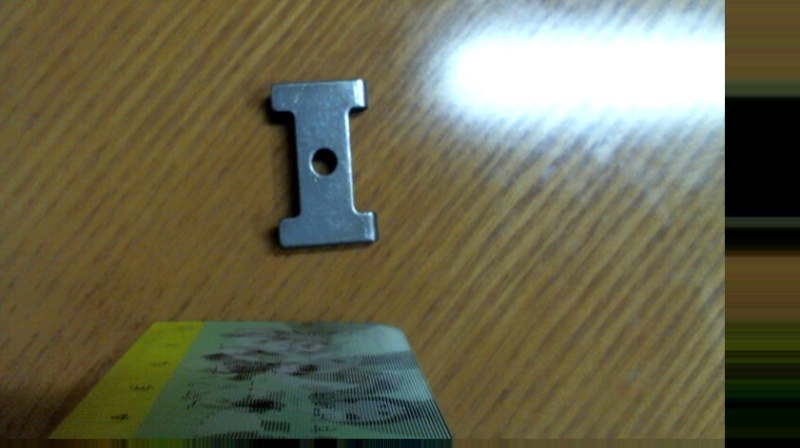O002: (268, 76, 377, 258)
